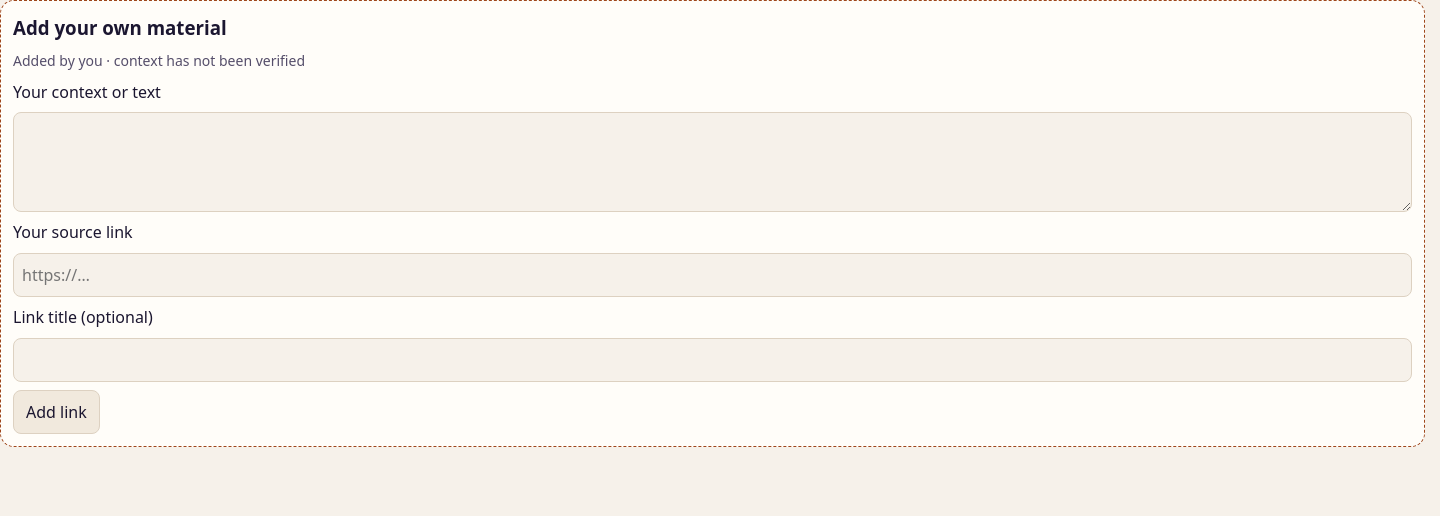
Scenario: UserAdditions › keeps context visibly separate and adds/removes a source link
Expected: the text "Added by you · context has not been verified" is shown, [13,51,305,70]
In the text box labelled "Your context or text": (712, 162) [13,112,1412,212], type "My own interpretation."
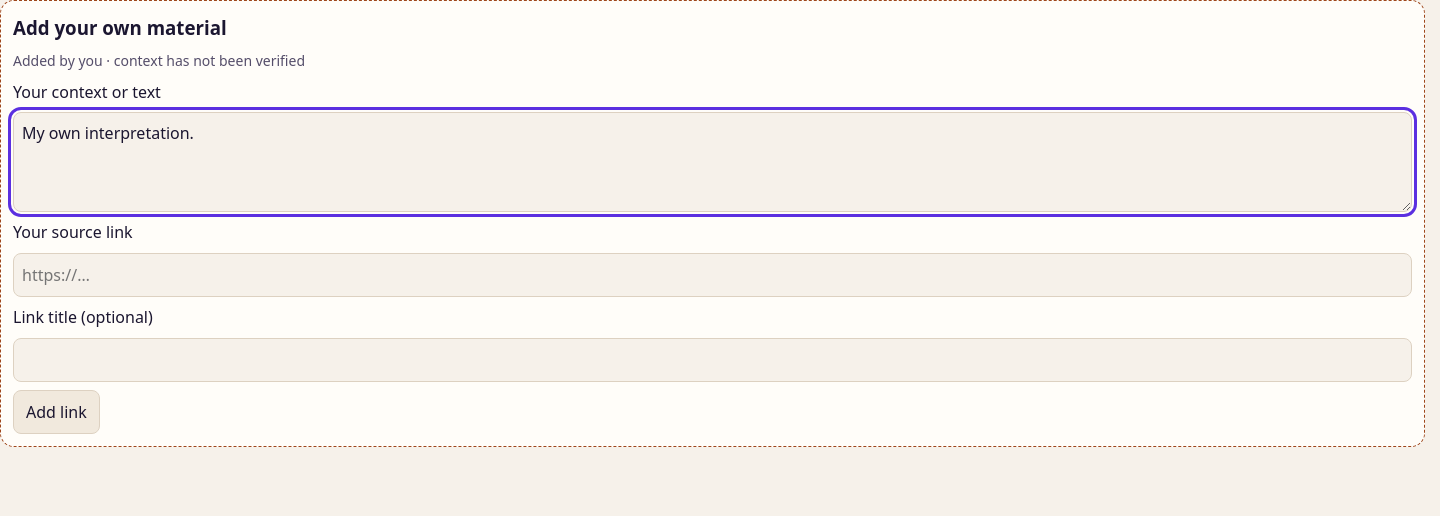
In the field labelled "Your source link": (712, 275) [13,253,1412,297], type "https://example.com/source"
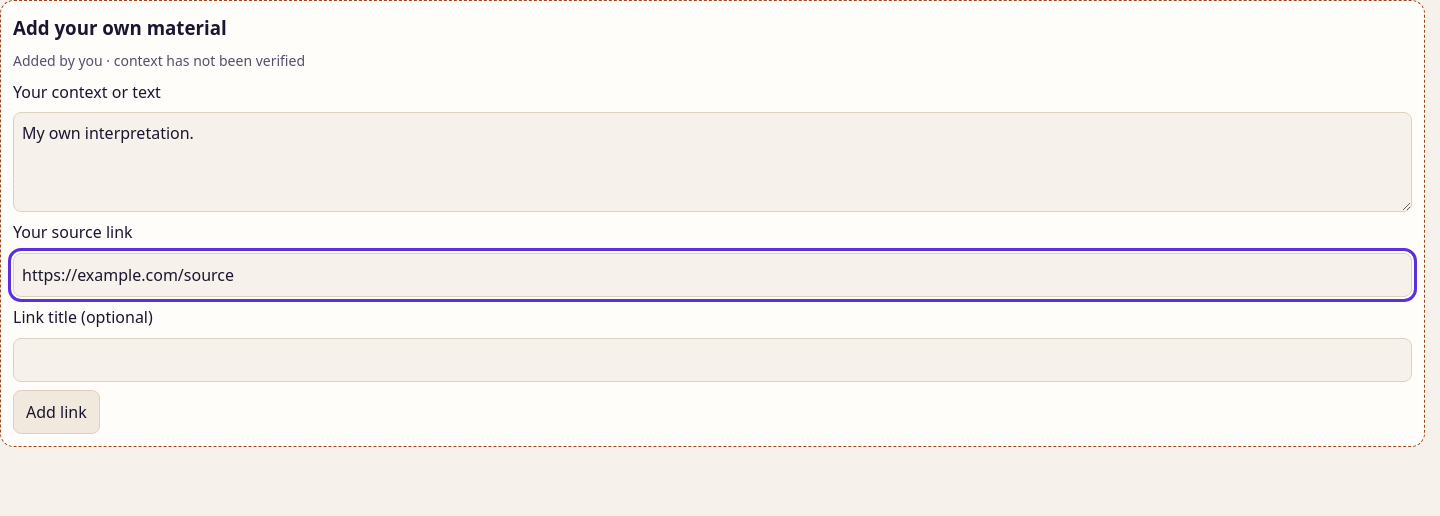
In the field labelled "Link title (optional)": (712, 360) [13,338,1412,382], type "An example"
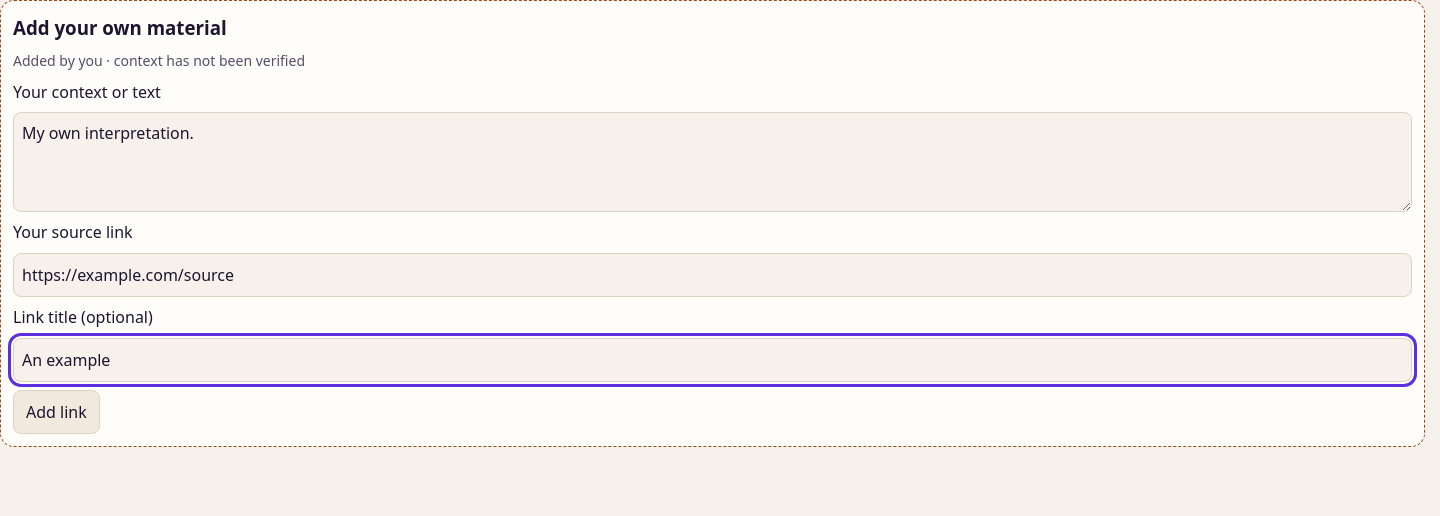
Click the button "Add link": (56, 412) [13,390,100,434]
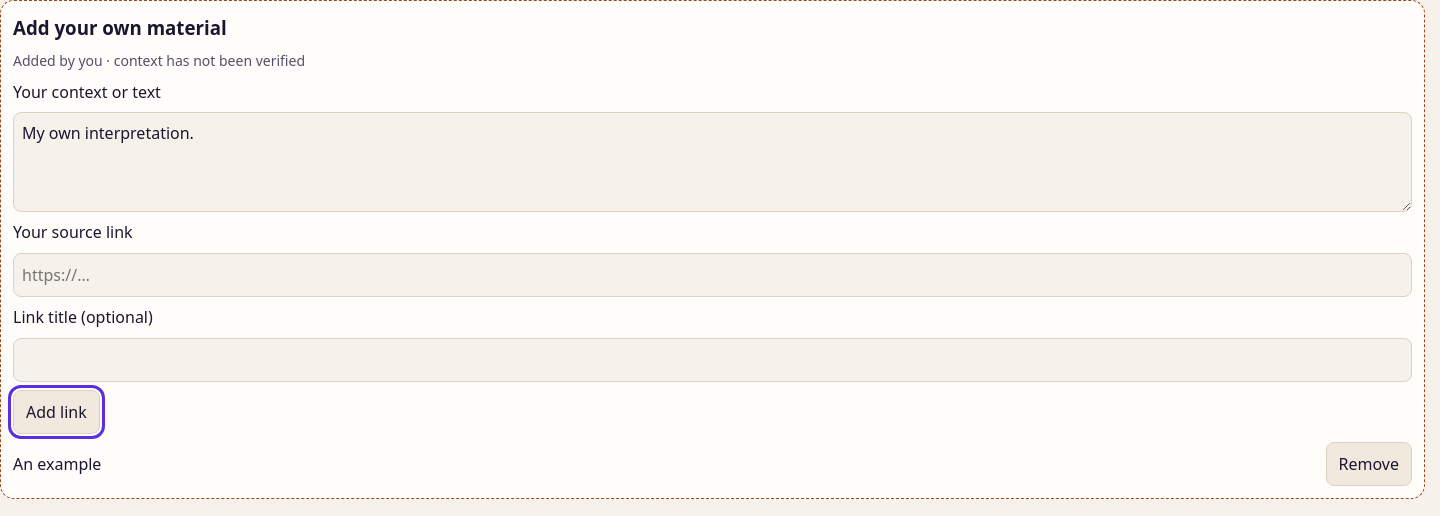
Expected: the list named "Links added by you" shows "An example", [13,453,101,475]
Click the button with aria-label "Remove An example": (1369, 464) [1326,442,1412,486]
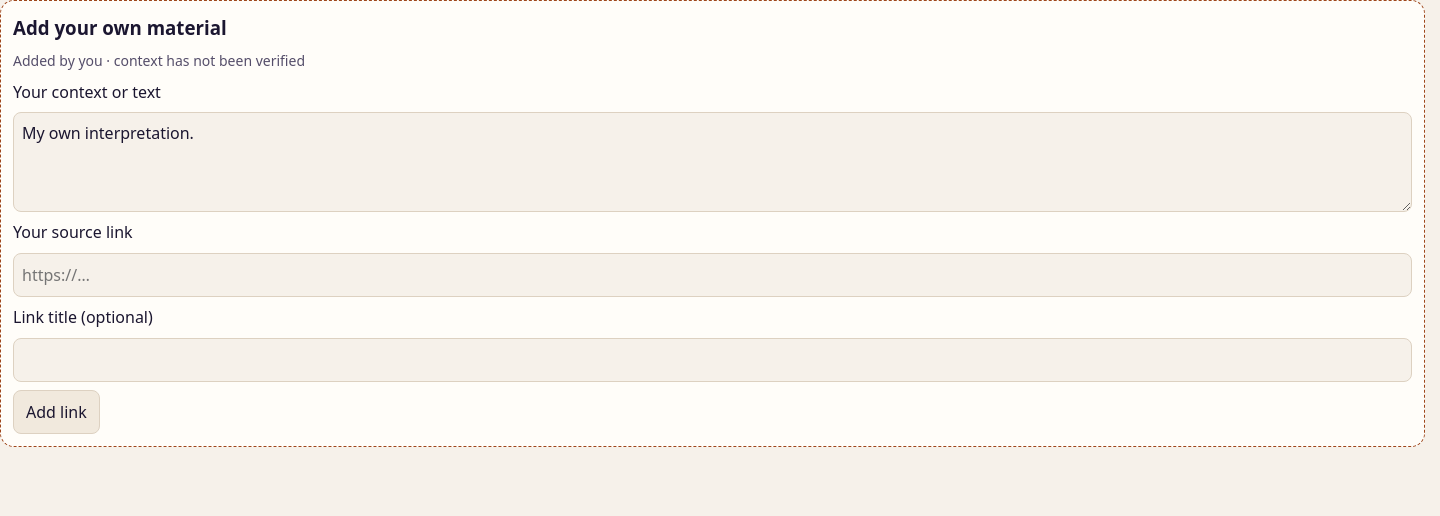
Expected: the list is gone
